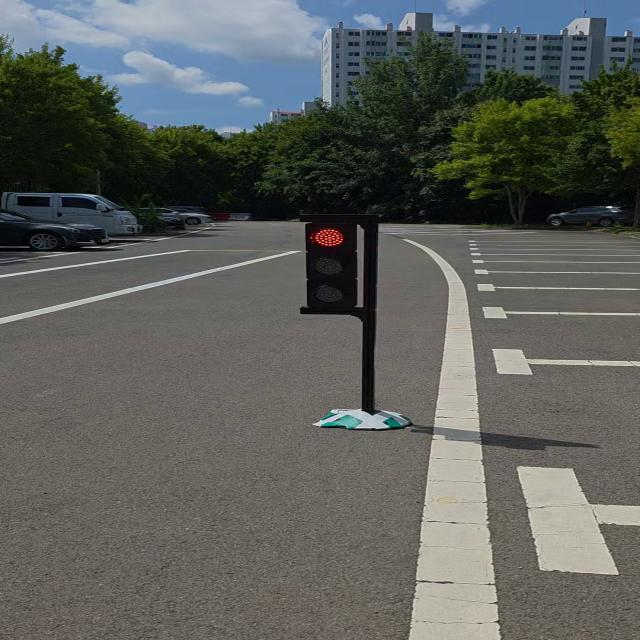red: (293, 217, 366, 313)
